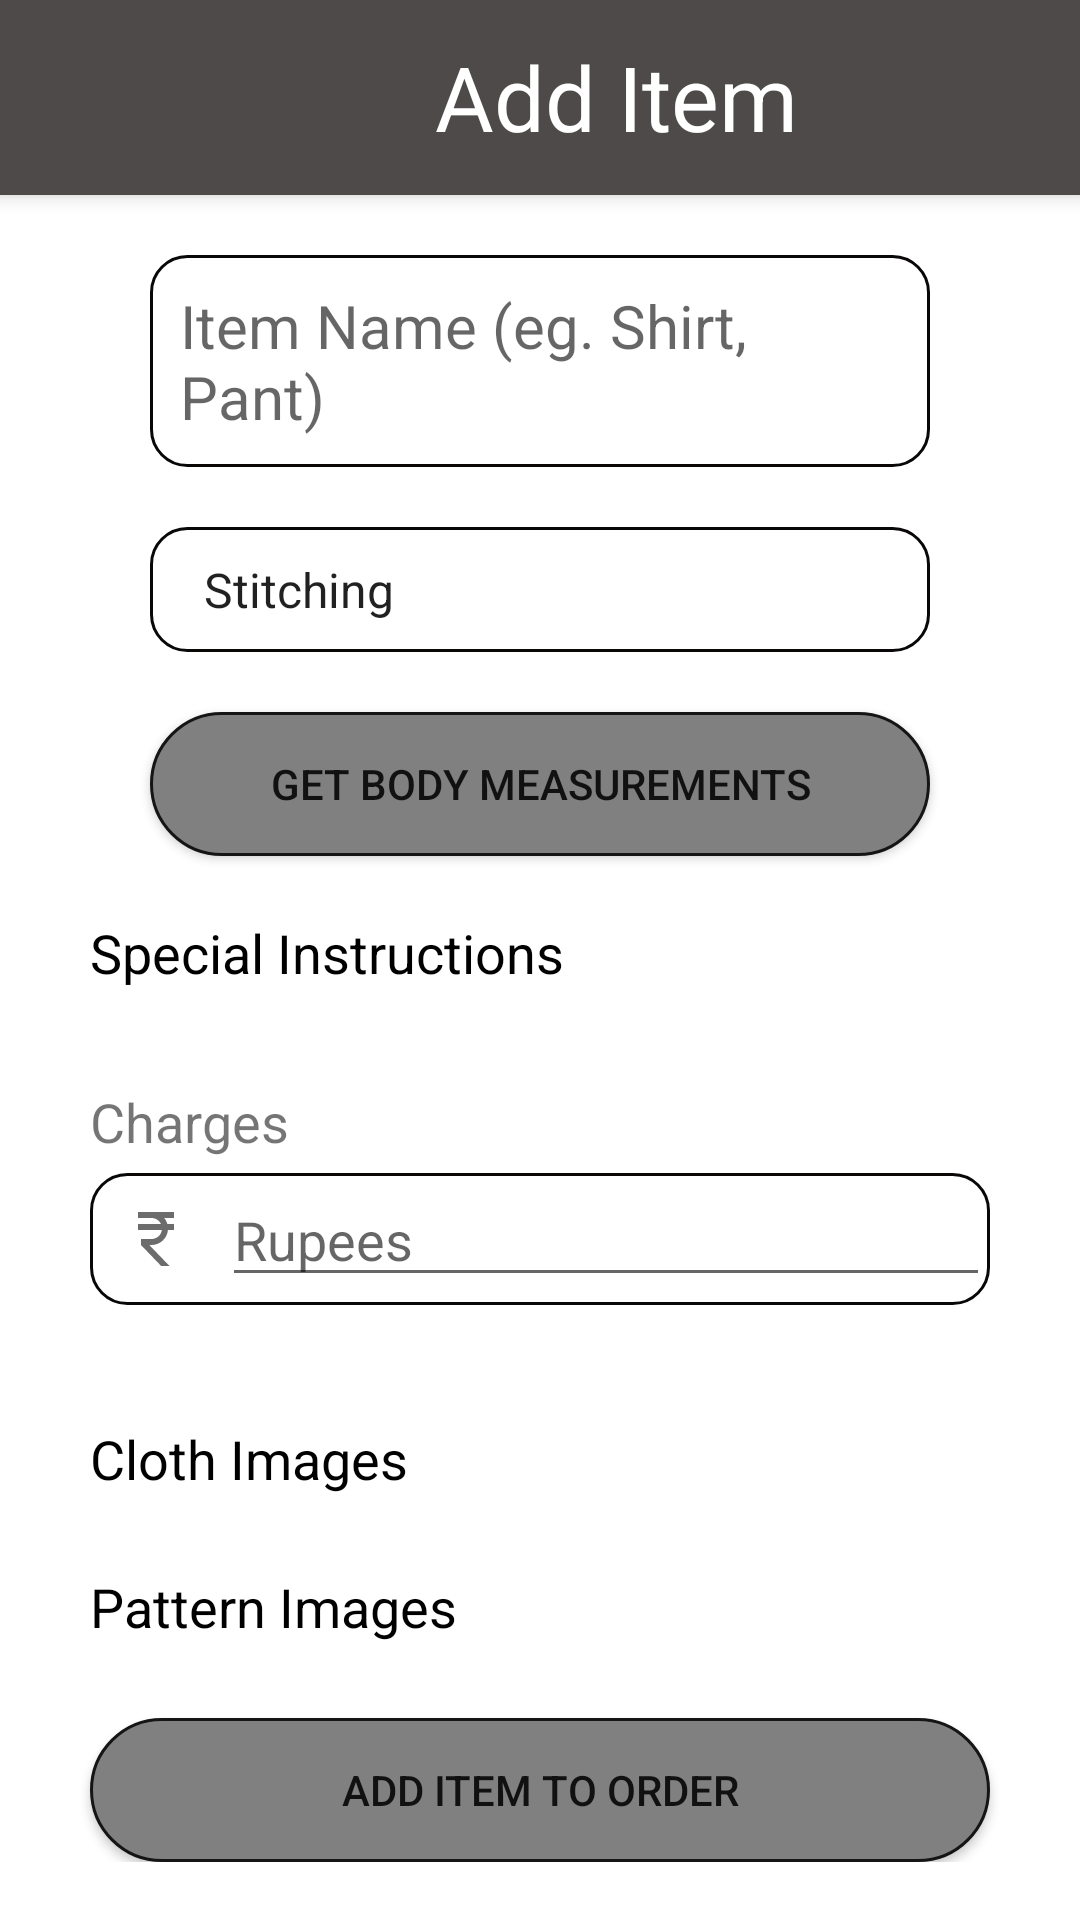

Screen size 1080*1920. Icon name, then its center in pixels as (x,y):
currency rupee: (156,1239)
